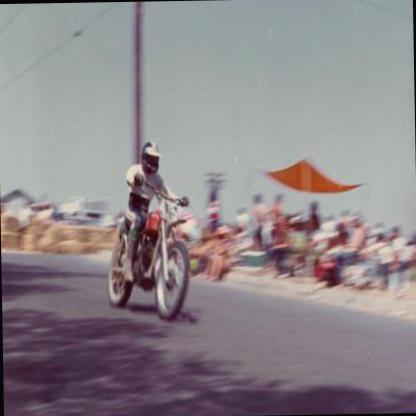motorcycle: (96, 200, 195, 324)
